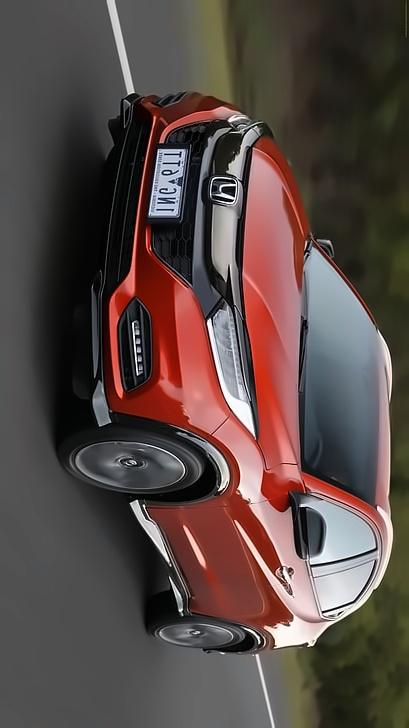Car hood: (239, 131, 316, 494)
Fender - -F-L-: (123, 410, 310, 519)
Front bumper: (93, 75, 234, 442)
Headlight - -L-: (207, 302, 265, 444)
Headlight - -R-: (225, 106, 264, 140)
Passenger-s door - -F-L-: (130, 482, 396, 581)
Passenger-s door - -R-L-: (143, 550, 397, 644)
Side bumper - -L-: (121, 493, 217, 627)
Side mirror - -L-: (283, 483, 330, 558)
